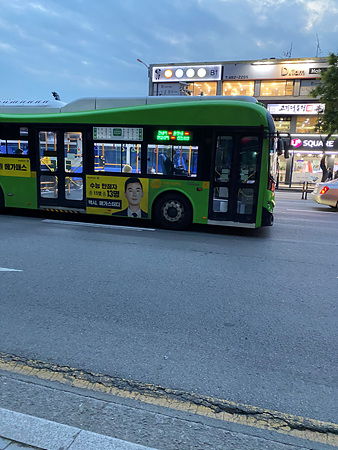entrance: (208, 124, 259, 225)
